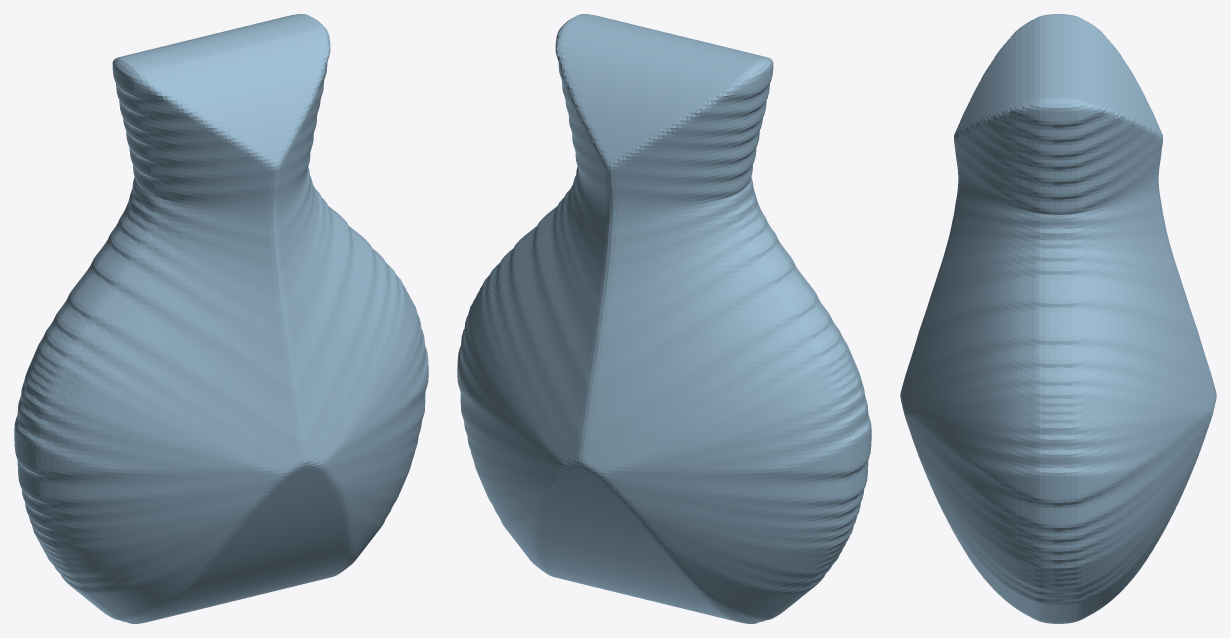
3 views of the same model, side by side, from view 1: azimuth 30°, elevation 25°; view 2: azimuth 150°, elevation 25°; view 3: azimuth 270°, elevation 25° (orthographic). The views are drawn at different scales.
Visible parts, largest first — view 1: world; view 2: world; view 3: world.
Part boxes in pixels (x1,y1,x2,y2): world: (14,14,428,623); world: (457,14,871,623); world: (900,14,1216,623).
Size of the model in its own units: 1.49 by 2 by 1.1.
